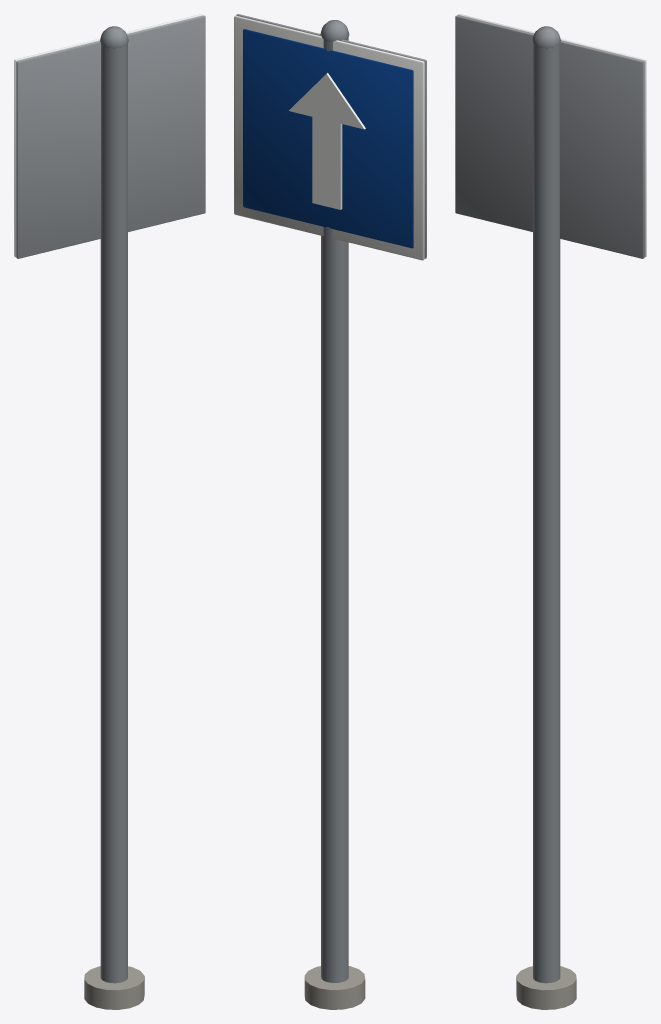
File: Sign_OneWay.fbx
3 views of the same model, side by side, from view 1: azimuth 30°, elevation 25°; view 2: azimuth 150°, elevation 25°; view 3: azimuth 330°, elevation 25° (orthographic).
Parts seen in each view (by area): view 1: Sign_OneWay_Mesh; view 2: Sign_OneWay_Mesh; view 3: Sign_OneWay_Mesh.
Boxes of the visible parts, x1,y1,x2,y2 form: Sign_OneWay_Mesh: (14,14,205,1009); Sign_OneWay_Mesh: (234,14,426,1009); Sign_OneWay_Mesh: (455,14,646,1009).
Size of the model in its own units: 0.6 by 2.94 by 0.1672.
